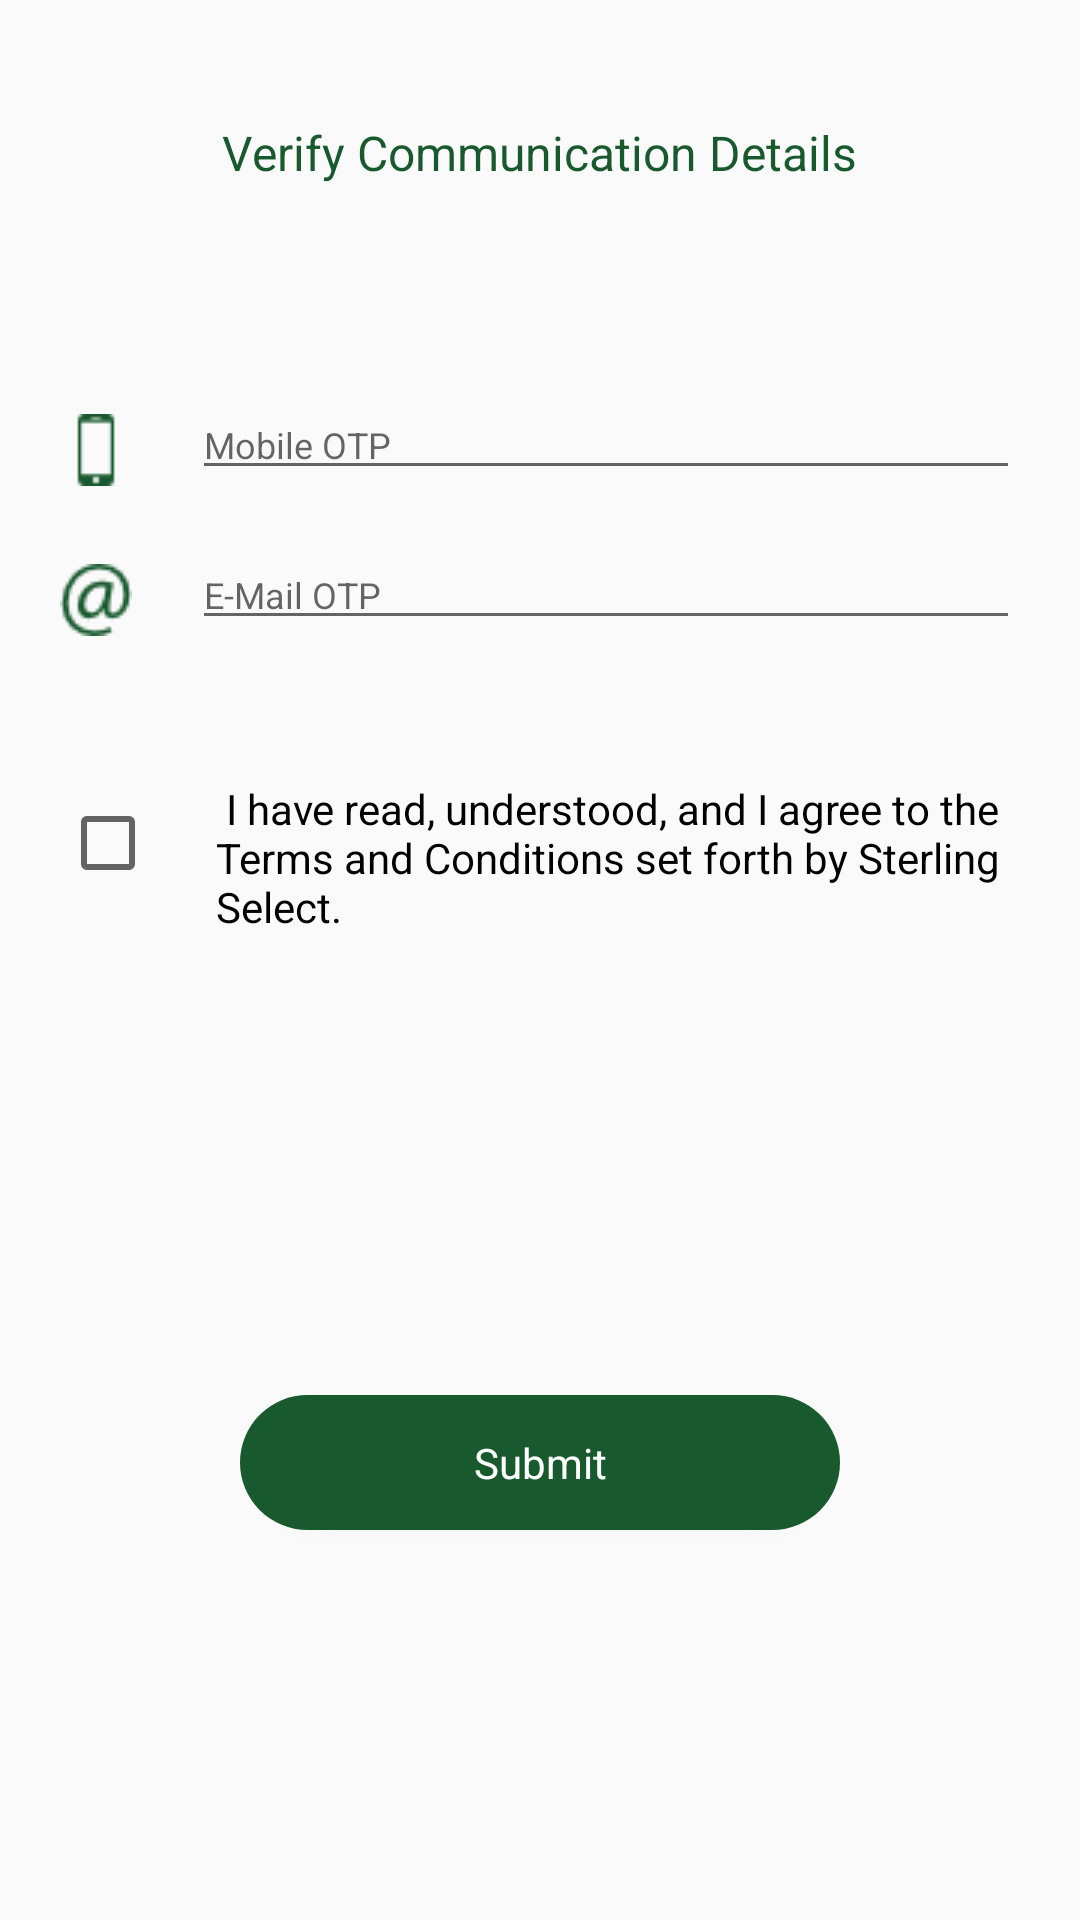

Locate icon controls on the screen. Image size 1080w x 1920h, boxes as {"left": x1, "top": y1, "right": x2, "bottom": y2}.
mobile phone: {"left": 77, "top": 414, "right": 115, "bottom": 486}
